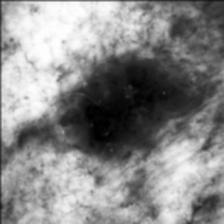Potentially Malignant Skin Tumors: (57, 38, 205, 154)
